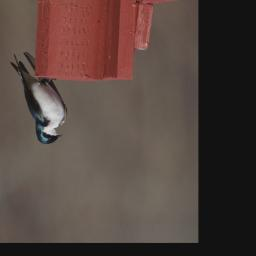Swallow: (10, 53, 68, 146)
